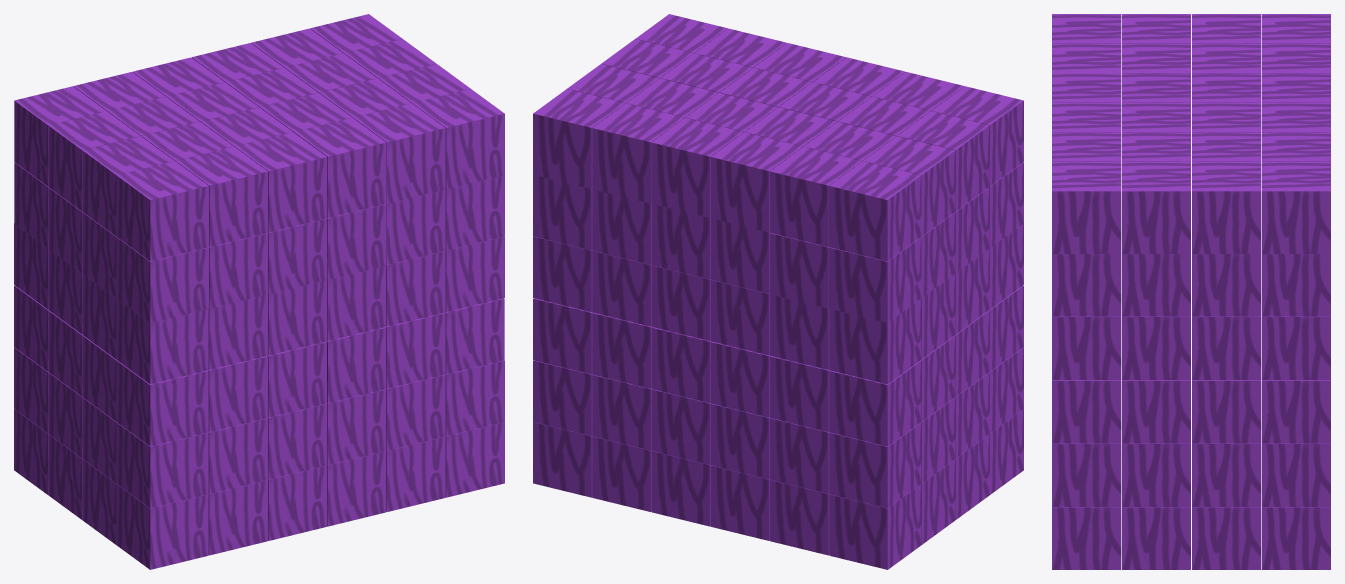
File: Level1-6_Cubes.fbx
3 views of the same model, side by side, from view 1: azimuth 30°, elevation 25°; view 2: azimuth 150°, elevation 25°; view 3: azimuth 270°, elevation 25° (orthographic). The views are drawn at different scales.
Parts seen in each view (by area): view 1: Cube.073, Cube.019, Cube.010, Cube.064, Cube, Cube.055, Cube.100, Cube.075, Cube.102, Cube.101, Cube.074, Cube.079 (+57 smaller); view 2: Cube.133, Cube.115, Cube.112, Cube.109, Cube.130, Cube.127, Cube.142, Cube.144, Cube.135, Cube.143, Cube.134, Cube.076 (+57 smaller); view 3: Cube.102, Cube.144, Cube.105, Cube.108, Cube.048, Cube.126, Cube.039, Cube.084, Cube.123, Cube.138, Cube.042, Cube.045 (+32 smaller).
Boxes of the visible parts, left/top/right/bottom form: Cube.073: left=116, top=161, right=208, bottom=261; Cube.019: left=116, top=360, right=208, bottom=446; Cube.010: left=116, top=422, right=208, bottom=508; Cube.064: left=116, top=237, right=208, bottom=322; Cube: left=116, top=484, right=208, bottom=569; Cube.055: left=116, top=298, right=208, bottom=384; Cube.100: left=294, top=118, right=386, bottom=217; Cube.075: left=235, top=132, right=327, bottom=232; Cube.102: left=412, top=89, right=504, bottom=189; Cube.101: left=353, top=103, right=445, bottom=203; Cube.074: left=175, top=146, right=267, bottom=246; Cube.079: left=48, top=111, right=140, bottom=211; Cube.133: left=829, top=161, right=921, bottom=261; Cube.115: left=829, top=360, right=921, bottom=446; Cube.112: left=829, top=422, right=921, bottom=508; Cube.109: left=829, top=484, right=921, bottom=569; Cube.130: left=829, top=237, right=921, bottom=322; Cube.127: left=829, top=298, right=921, bottom=384; Cube.142: left=651, top=118, right=743, bottom=217; Cube.144: left=533, top=89, right=625, bottom=188; Cube.135: left=710, top=132, right=802, bottom=232; Cube.143: left=592, top=103, right=684, bottom=203; Cube.134: left=770, top=146, right=862, bottom=246; Cube.076: left=897, top=111, right=989, bottom=210; Cube.102: left=1052, top=162, right=1121, bottom=253; Cube.144: left=1261, top=162, right=1330, bottom=253; Cube.105: left=1122, top=162, right=1190, bottom=253; Cube.108: left=1192, top=162, right=1260, bottom=253; Cube.048: left=1052, top=380, right=1121, bottom=443; Cube.126: left=1261, top=380, right=1330, bottom=443; Cube.039: left=1052, top=443, right=1121, bottom=506; Cube.084: left=1052, top=316, right=1121, bottom=379; Cube.123: left=1261, top=443, right=1330, bottom=506; Cube.138: left=1261, top=316, right=1330, bottom=379; Cube.042: left=1122, top=443, right=1190, bottom=506; Cube.045: left=1192, top=443, right=1260, bottom=506.
Size of the model in its own units: 1902 by 1895 by 1264.
